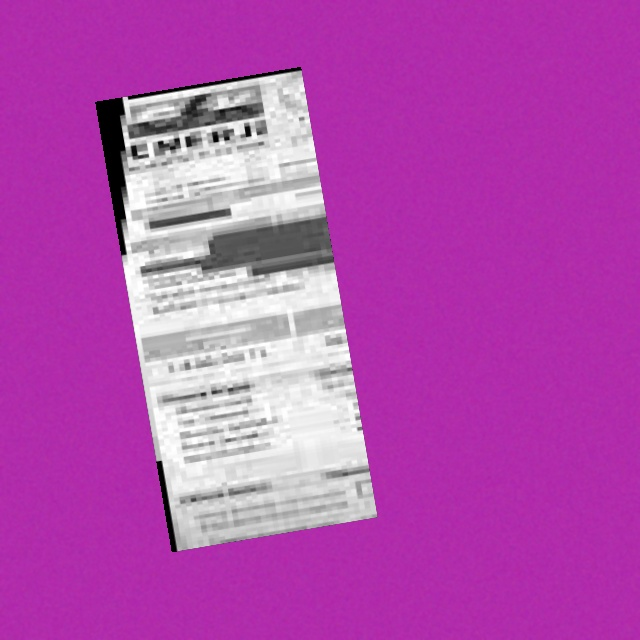electricity-bill: (94, 66, 378, 551)
